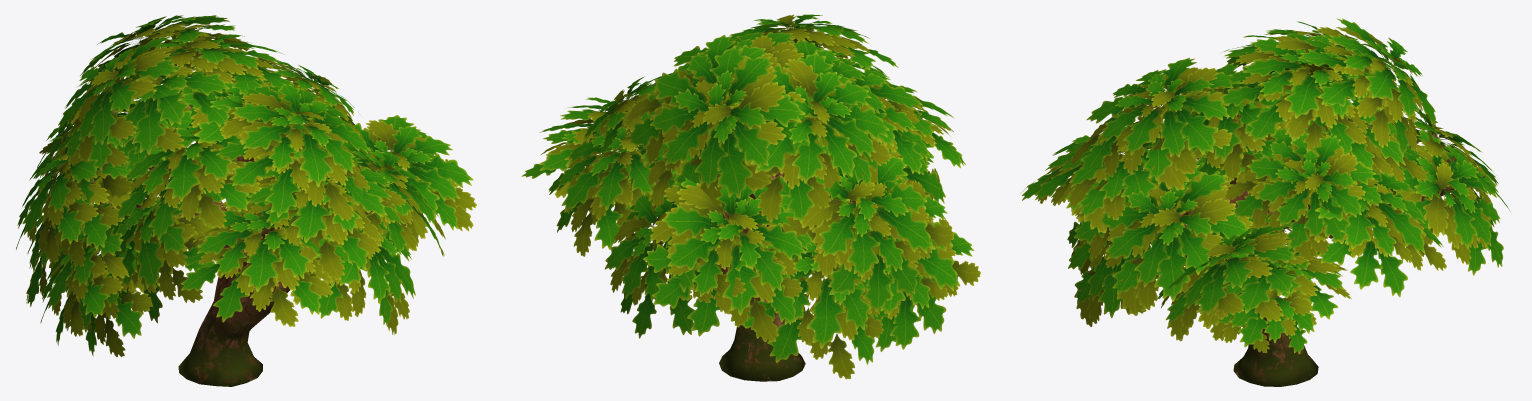
Rendered from oak-tree.glb.
The picture shows the model from 3 angles, left to right: view 1: azimuth 30°, elevation 25°; view 2: azimuth 150°, elevation 25°; view 3: azimuth 270°, elevation 25°; orthographic projection. The views are drawn at different scales.
Parts seen in each view (by area): view 1: Canopy, Trunk; view 2: Canopy, Trunk; view 3: Canopy, Trunk.
Part boxes in pixels (bbox=[...]): Canopy: bbox=[16, 15, 476, 357]; Trunk: bbox=[52, 105, 372, 386]; Canopy: bbox=[521, 14, 980, 379]; Trunk: bbox=[656, 165, 855, 381]; Canopy: bbox=[1021, 18, 1510, 354]; Trunk: bbox=[1155, 114, 1485, 386].
Bounding box in the file's own units: 39.14 × 30.24 × 41.
Materials: 2 (2 with a texture image).
